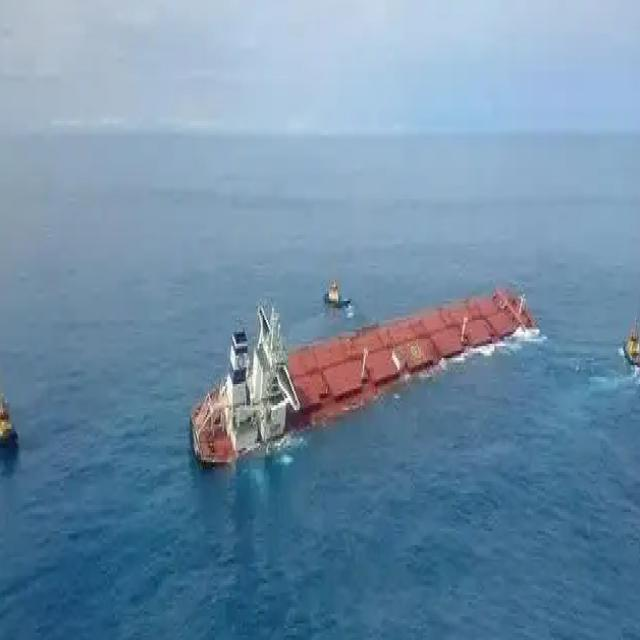cargoship: (187, 284, 541, 462)
